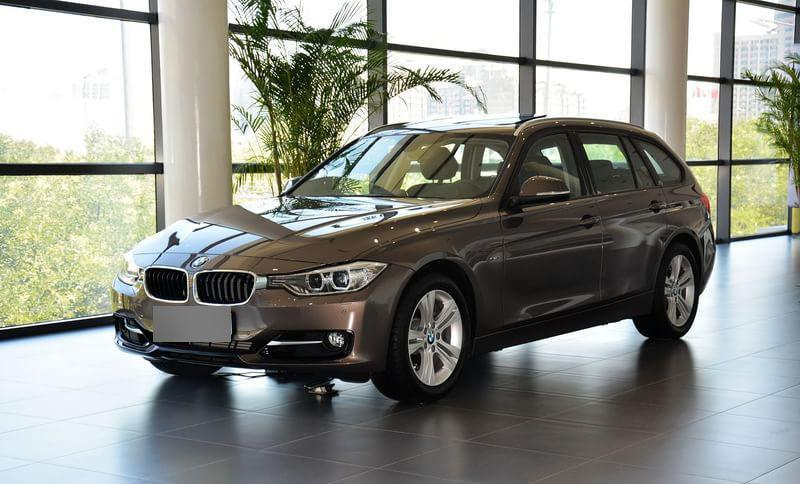Wagon: (109, 114, 718, 405)
